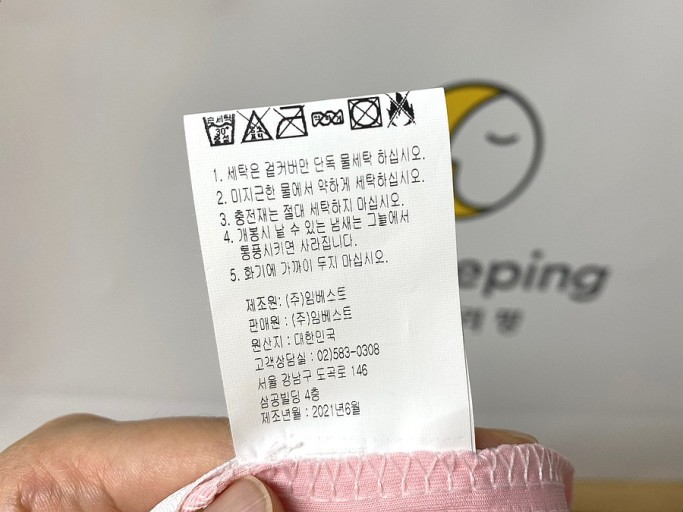KR_gentle_wring: (310, 108, 347, 130)
KR_hand_wash_30_neutral: (202, 113, 237, 148)
KR_no_chlorine_bleach: (239, 109, 275, 145)
KR_no_iron: (276, 105, 309, 141)
KR_no_tumble_dry: (347, 97, 385, 130)
